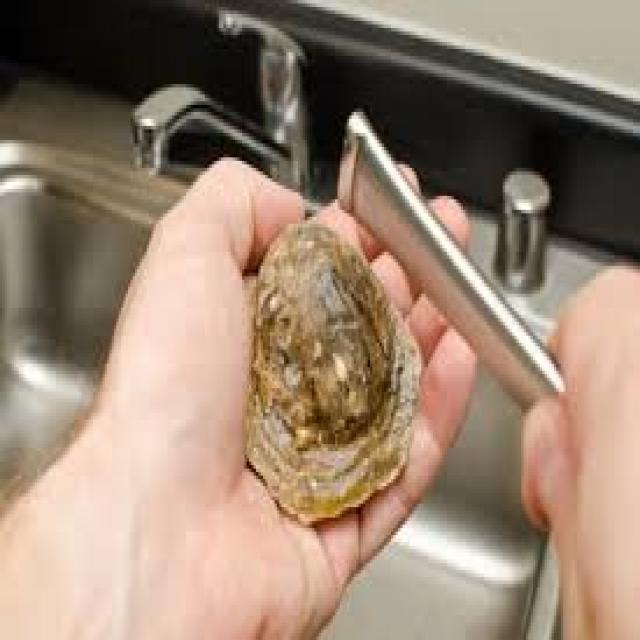Oyster- Indeterminate: (238, 188, 421, 536)
